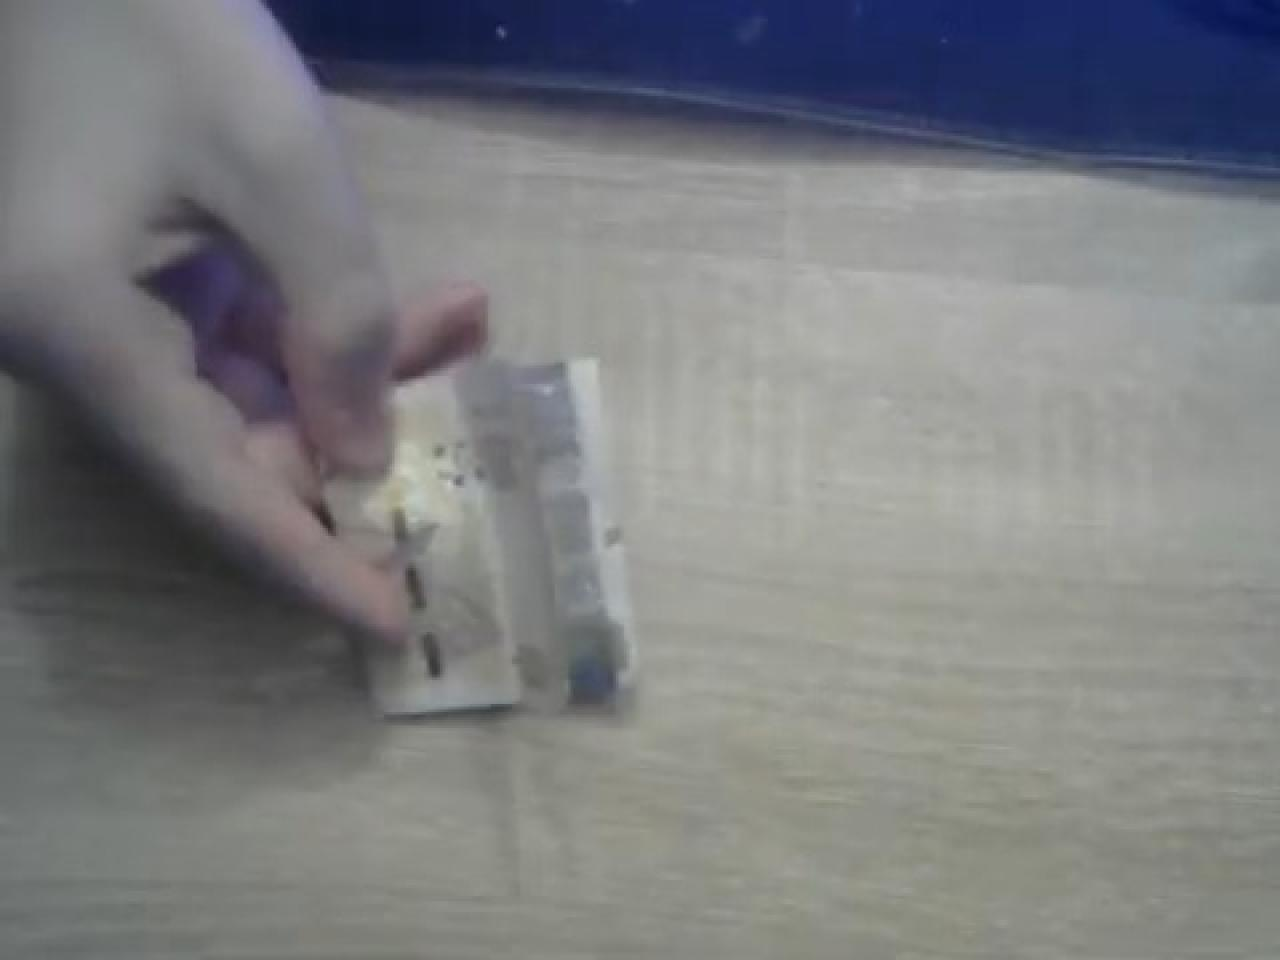10leva: (323, 347, 640, 722)
